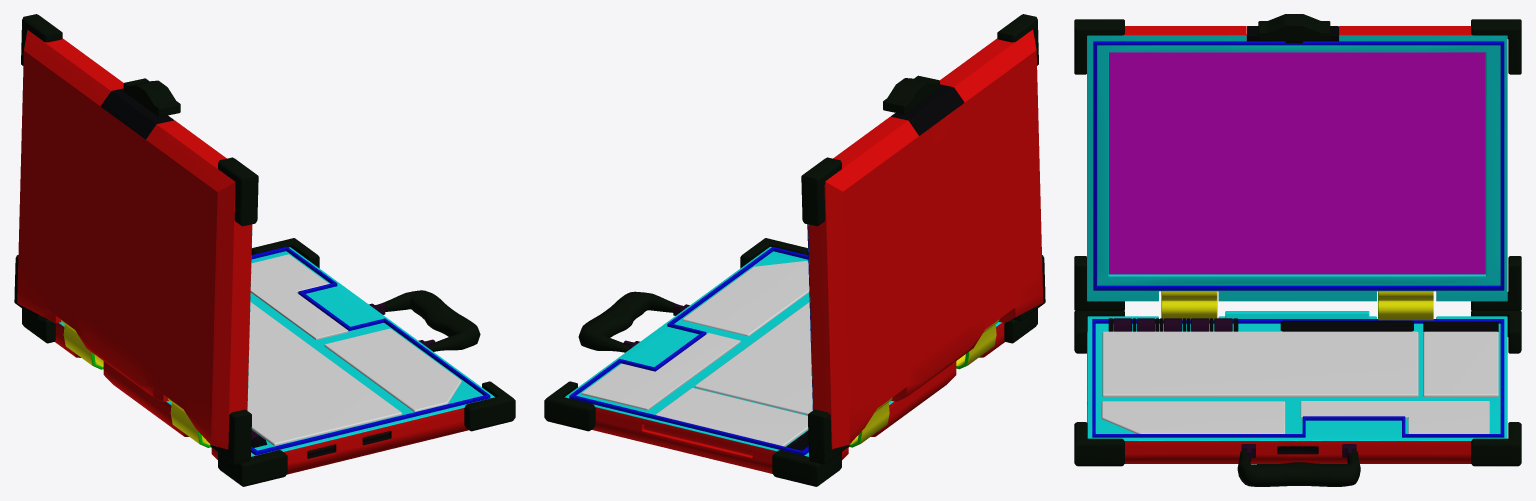
File: Laptop.fbx
3 views of the same model, side by side, from view 1: azimuth 30°, elevation 25°; view 2: azimuth 150°, elevation 25°; view 3: azimuth 270°, elevation 25° (orthographic).
Parts seen in each view (by area): view 1: Laptop_Lid, Laptop_Base; view 2: Laptop_Lid, Laptop_Base; view 3: Laptop_Lid, Laptop_Base.
Boxes of the visible parts, x1,y1,x2,y2 form: Laptop_Lid: (14, 14, 258, 464); Laptop_Base: (22, 238, 515, 486); Laptop_Lid: (801, 14, 1045, 464); Laptop_Base: (544, 238, 1037, 486); Laptop_Lid: (1074, 14, 1521, 320); Laptop_Base: (1074, 311, 1521, 486).
Size of the model in its own units: 55.14 by 49.96 by 61.31.
